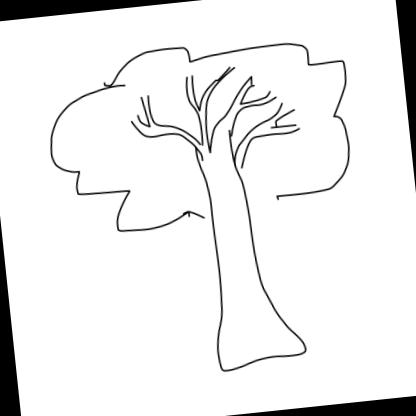branch_cut: (126, 58, 302, 190)
crown_cloud: (41, 29, 360, 238)
trunk_straight: (200, 166, 284, 330)
